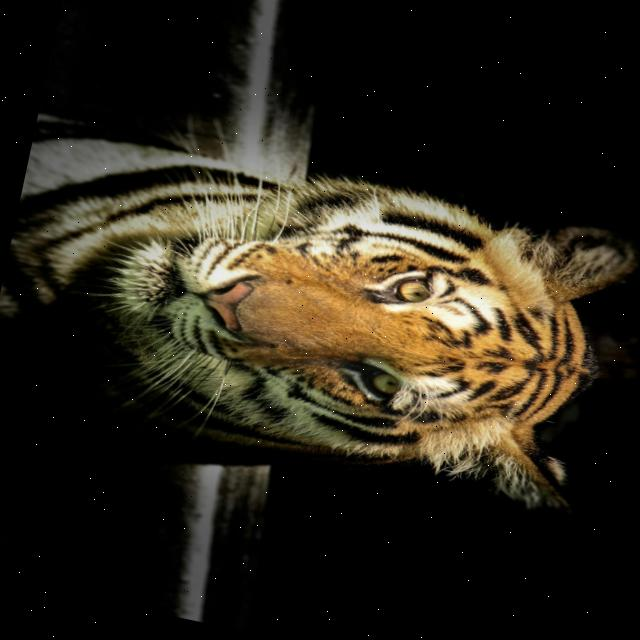Tiger: (0, 112, 639, 518)
